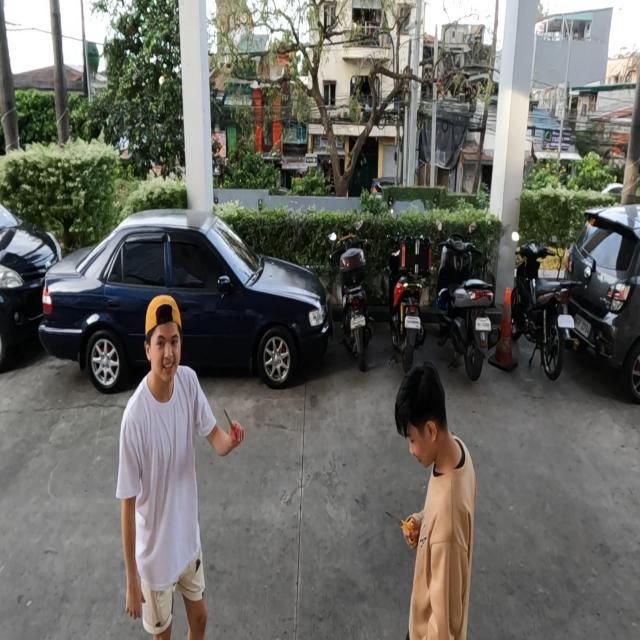scissor: (385, 510, 417, 546), (224, 408, 244, 447)
